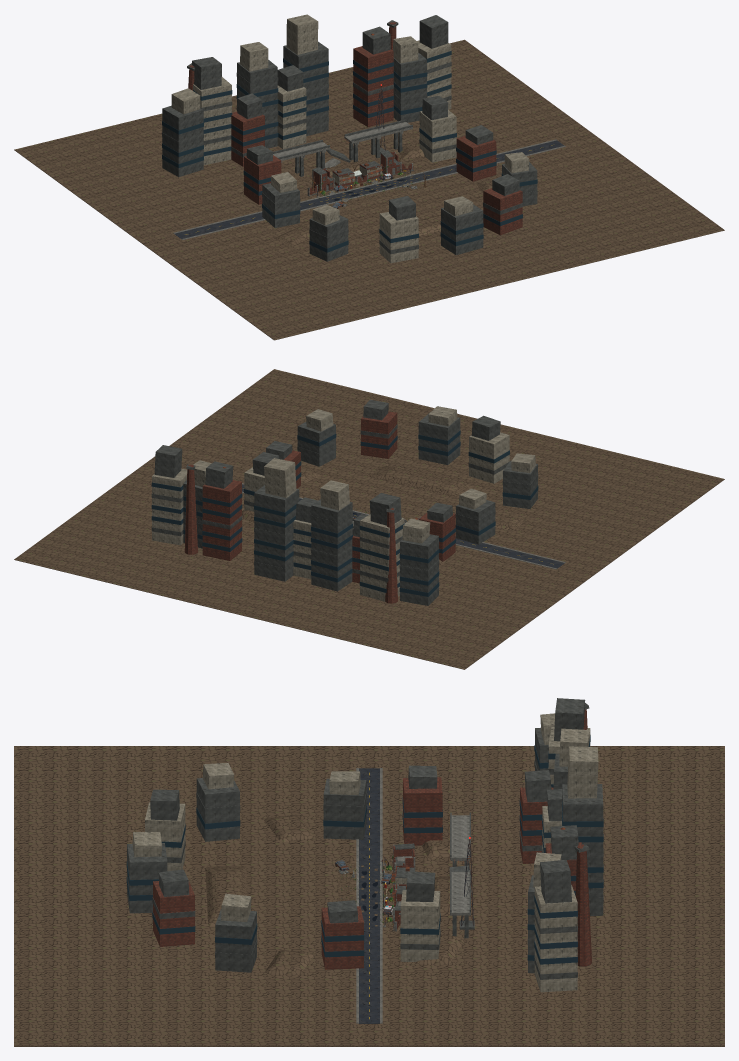
Rendered from apocalypse_street_scene.glb.
3 renders of one model, top to bottom at view 1: azimuth 30°, elevation 25°; view 2: azimuth 150°, elevation 25°; view 3: azimuth 270°, elevation 25°, orthographic. The views are drawn at different scales.
Parts seen in each view (by area): view 1: Env_BaseEarth, Env_DistantSkyline; view 2: Env_BaseEarth, Env_DistantSkyline; view 3: Env_BaseEarth, Env_DistantSkyline.
Part boxes in pixels (x1,y1,x2,y2): Env_BaseEarth: [14, 39, 724, 340]; Env_DistantSkyline: [162, 14, 537, 263]; Env_BaseEarth: [14, 369, 724, 669]; Env_DistantSkyline: [151, 399, 538, 605]; Env_BaseEarth: [14, 746, 724, 1046]; Env_DistantSkyline: [126, 698, 603, 992].
Size of the model in its own units: 160 by 37.87 by 160.
Materials: 27 (19 with a texture image).
